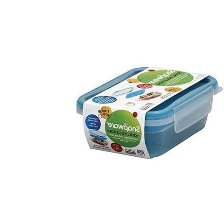plastic_box: (68, 59, 223, 165)
